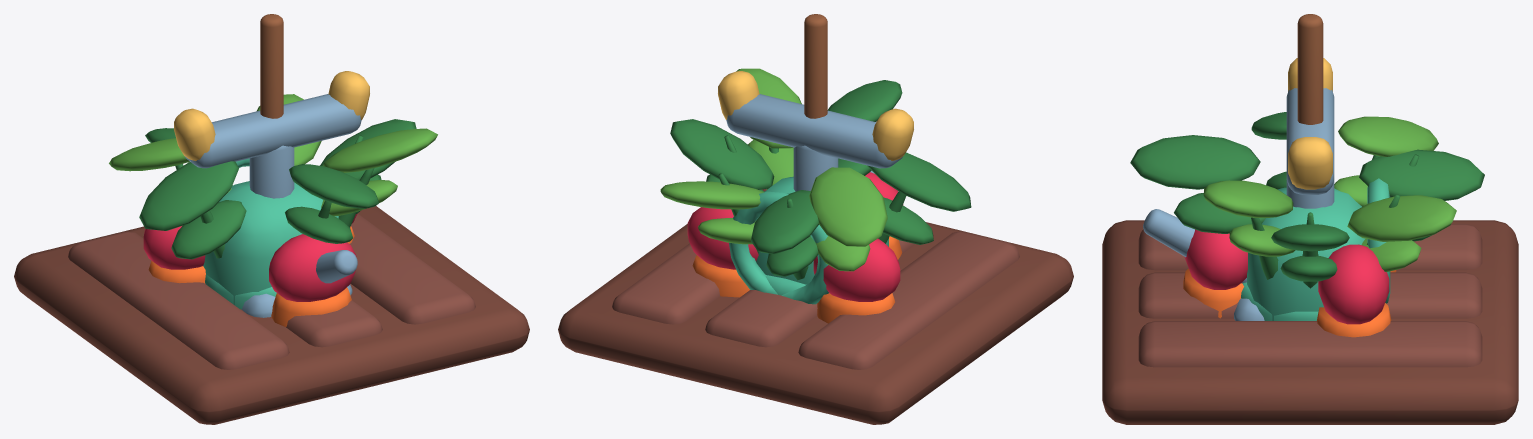
File: farm_assets.glb
3 renders of one model, left to right at view 1: azimuth 30°, elevation 25°; view 2: azimuth 150°, elevation 25°; view 3: azimuth 270°, elevation 25°, orthographic. The views are drawn at different scales.
Visible parts, largest first — view 1: Plot_Dry, Berry_Ripe, Sprinkler, WateringCan, Berry_Growing, Hoe, Carrot_Ripe; view 2: Plot_Dry, Berry_Ripe, Sprinkler, Berry_Growing, WateringCan, Carrot_Ripe, Hoe; view 3: Plot_Dry, Berry_Ripe, WateringCan, Berry_Growing, Sprinkler, Hoe, Carrot_Ripe.
Part boxes in pixels (x1,y1,x2,y2): Plot_Dry: [14, 206, 529, 424]; Berry_Ripe: [109, 94, 437, 301]; Sprinkler: [174, 71, 369, 309]; WateringCan: [203, 158, 357, 304]; Berry_Growing: [171, 174, 397, 259]; Hoe: [242, 14, 352, 317]; Carrot_Ripe: [148, 226, 354, 326]; Plot_Dry: [558, 189, 1073, 424]; Berry_Ripe: [660, 68, 971, 301]; Sprinkler: [718, 71, 913, 295]; Berry_Growing: [698, 139, 933, 276]; WateringCan: [729, 170, 888, 304]; Carrot_Ripe: [692, 236, 902, 323]; Hoe: [804, 14, 827, 118]; Plot_Dry: [1102, 220, 1518, 424]; Berry_Ripe: [1130, 112, 1484, 324]; WateringCan: [1143, 178, 1390, 320]; Berry_Growing: [1174, 171, 1431, 281]; Sprinkler: [1241, 58, 1334, 320]; Hoe: [1234, 14, 1323, 320]; Carrot_Ripe: [1183, 268, 1396, 337].
Size of the model in its own units: 0.92 by 0.802 by 0.92.
